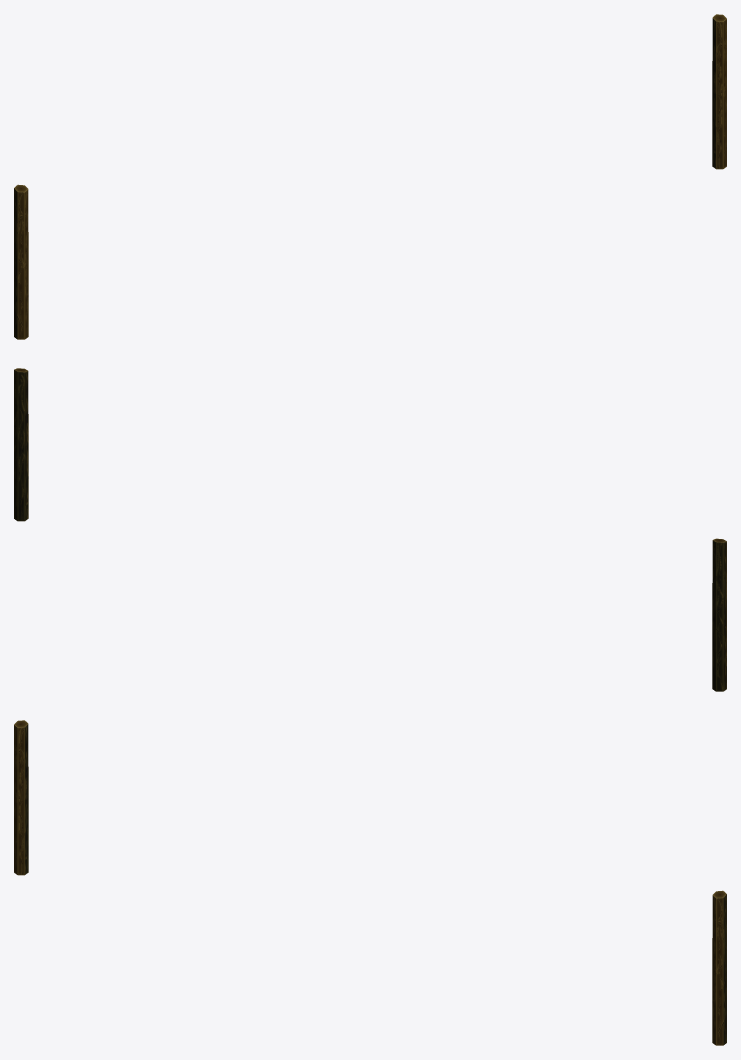
File: WOOBEAMfbx.fbx
The picture shows the model from 3 angles, top to bottom: view 1: azimuth 30°, elevation 25°; view 2: azimuth 150°, elevation 25°; view 3: azimuth 330°, elevation 25°; orthographic projection.
Parts seen in each view (by area): view 1: WOODBEAM_LOW; view 2: WOODBEAM_LOW; view 3: WOODBEAM_LOW.
Boxes of the visible parts, x1=… form: WOODBEAM_LOW: x1=14, y1=14, x2=726, y2=339; WOODBEAM_LOW: x1=14, y1=368, x2=726, y2=691; WOODBEAM_LOW: x1=14, y1=720, x2=726, y2=1045.
Bounding box in the file's own units: 1652 × 333 × 29.28.
1 material, 1 textured.
